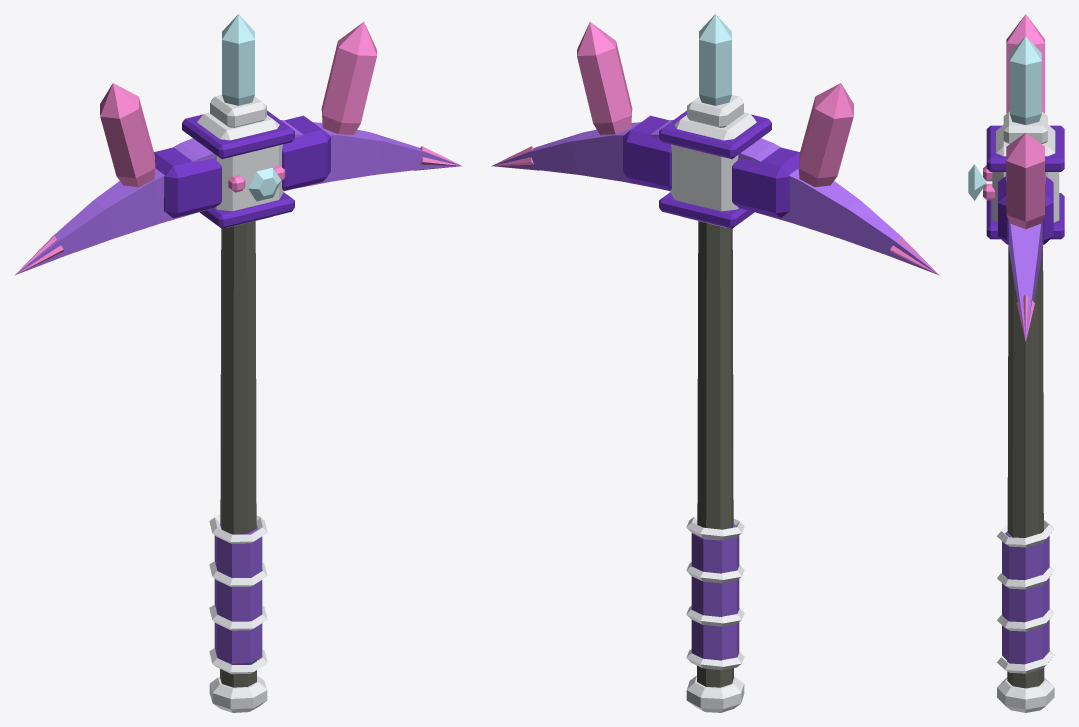
File: CrystalPickaxe.fbx
3 renders of one model, left to right at view 1: azimuth 30°, elevation 25°; view 2: azimuth 150°, elevation 25°; view 3: azimuth 270°, elevation 25°, orthographic. The views are drawn at different scales.
Visible parts, largest first — view 1: CrystalPickaxe; view 2: CrystalPickaxe; view 3: CrystalPickaxe.
Boxes of the visible parts, bbox=[...] form: CrystalPickaxe: bbox=[14, 14, 462, 712]; CrystalPickaxe: bbox=[491, 14, 939, 712]; CrystalPickaxe: bbox=[968, 14, 1064, 712].
Bounding box in the file's own units: 2.7 × 3.97 × 0.52.
Materials: 1 (1 with a texture image).
